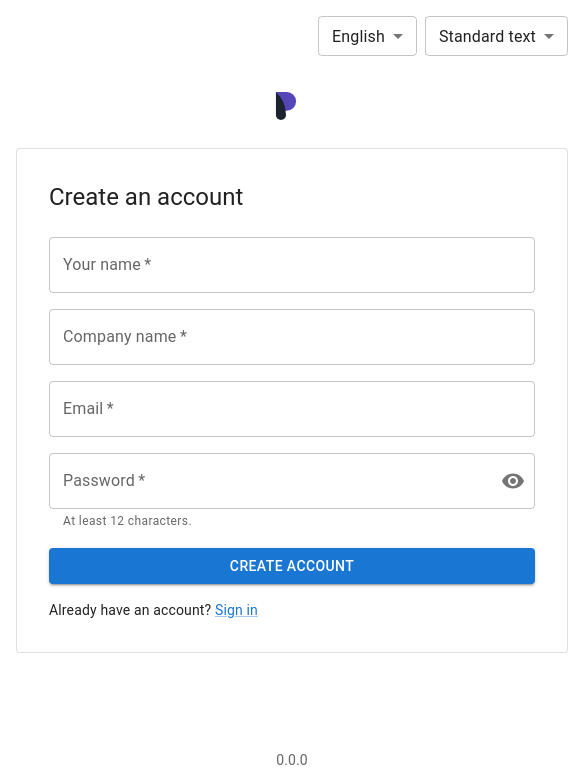
Test: RegisterPage › turns into the explanation when the form is refused as closed
The width and height of the screenshot is (585, 782).
Type "Mei Lin" into the field labelled "Your name" at (292, 265), box [49,237,535,293]
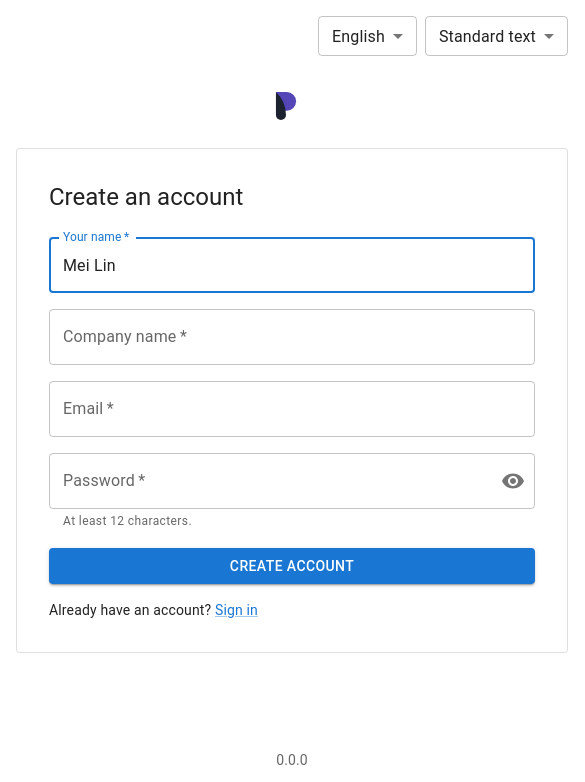
Type "Northside" into the field labelled "Company name" at (292, 337), box [49,309,535,365]
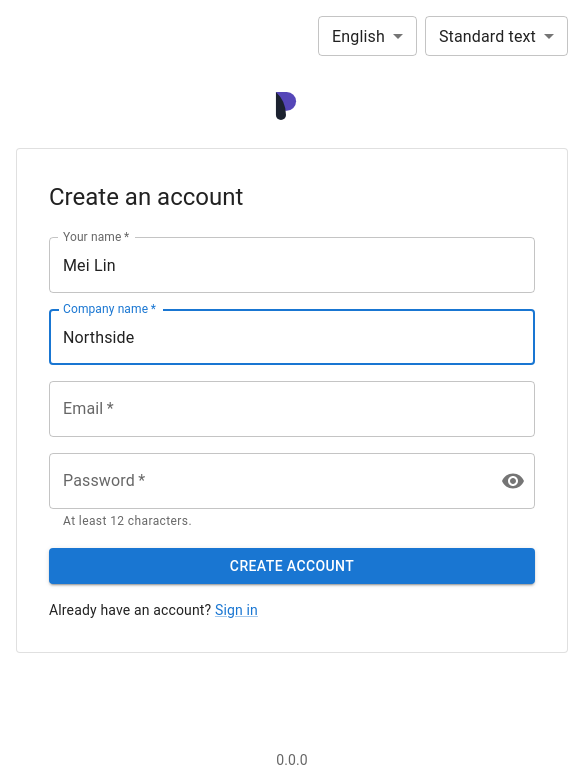
Type "mei@example.com" into the field labelled "Email" at (292, 409), box [49,381,535,437]
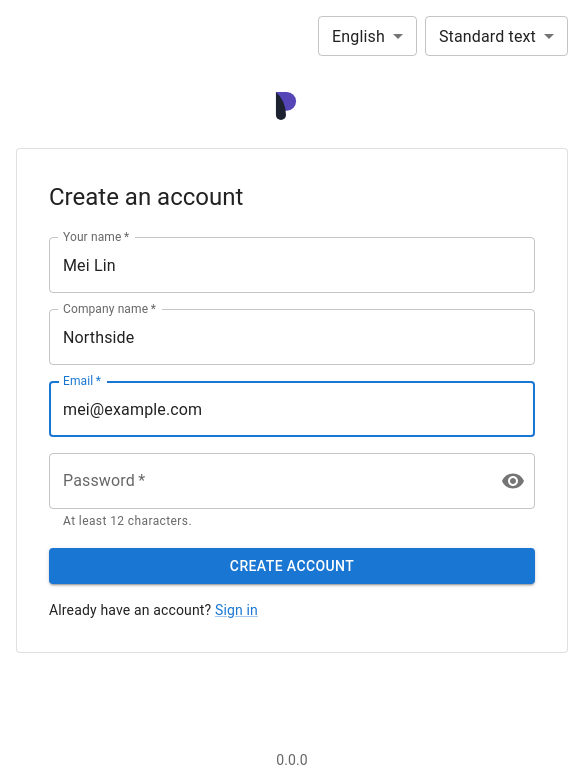
Type "a-password-of-mine" into the password field labelled "Password *" at (267, 481), box [49,453,485,509]
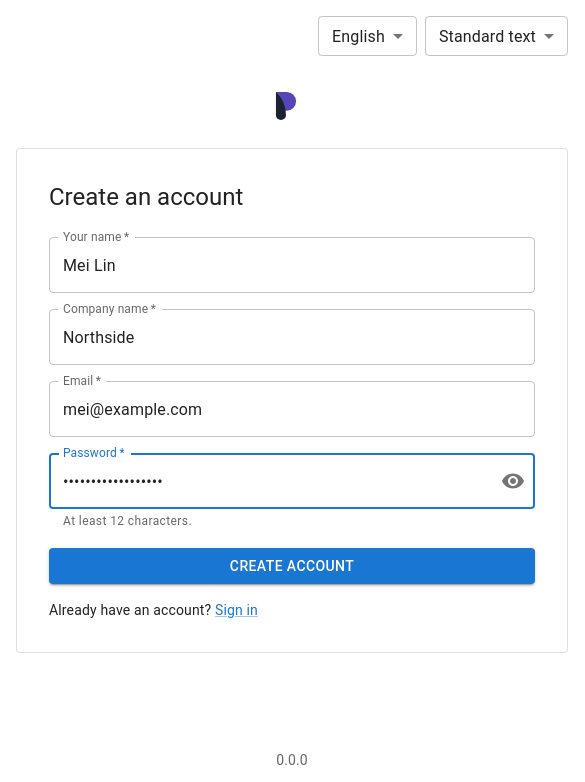
Click the button "Create account" at (292, 566), box [49,548,535,584]
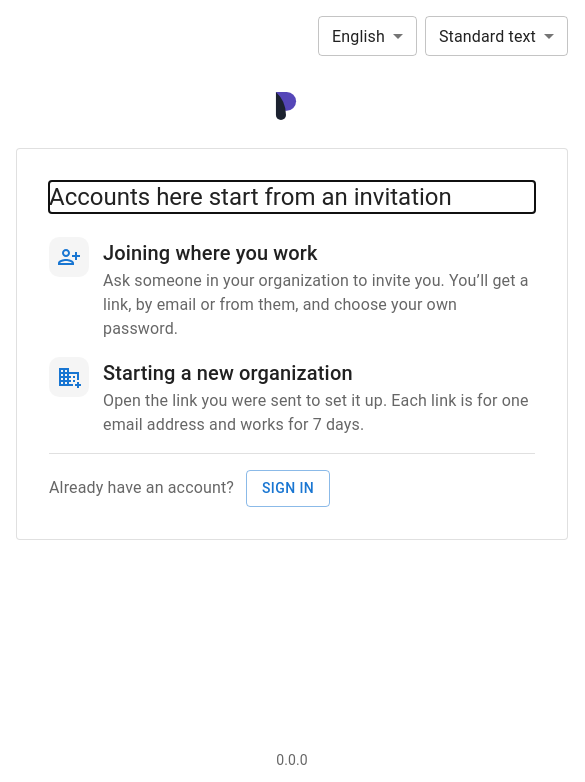
Result: the heading "Accounts here start from an invitation" is shown at [49,183,452,211]
